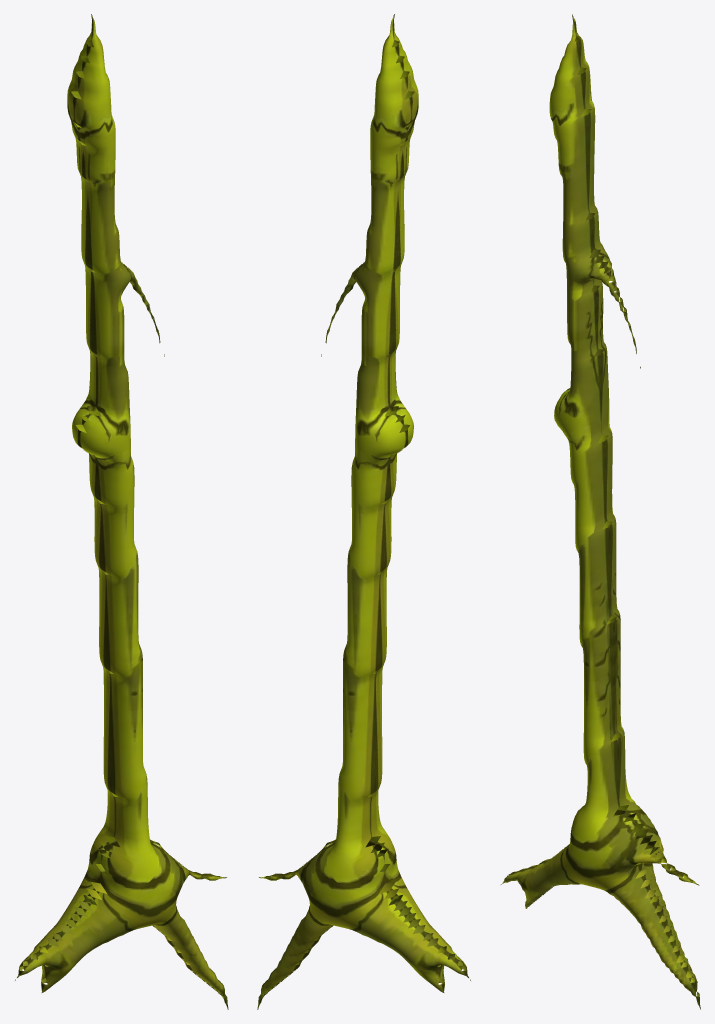
File: tether_vine.glb
3 views of the same model, side by side, from view 1: azimuth 30°, elevation 25°; view 2: azimuth 150°, elevation 25°; view 3: azimuth 330°, elevation 25° (orthographic). The views are drawn at different scales.
Parts seen in each view (by area): view 1: tether_vine; view 2: tether_vine; view 3: tether_vine.
Part boxes in pixels (x1,y1,x2,y2): tether_vine: (15, 14, 228, 1009); tether_vine: (257, 14, 470, 1009); tether_vine: (501, 14, 700, 1009).
Size of the model in its own units: 0.9017 by 4.14 by 0.3606.
1 material, 1 textured.
